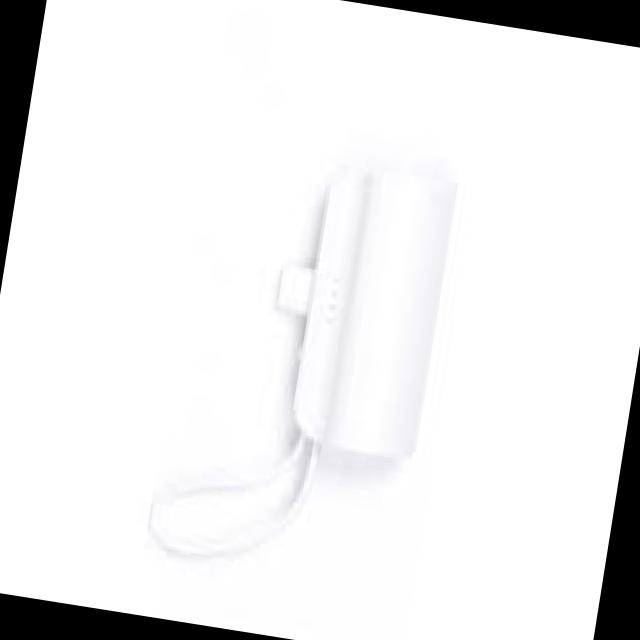portable-charger: (252, 147, 472, 466)
